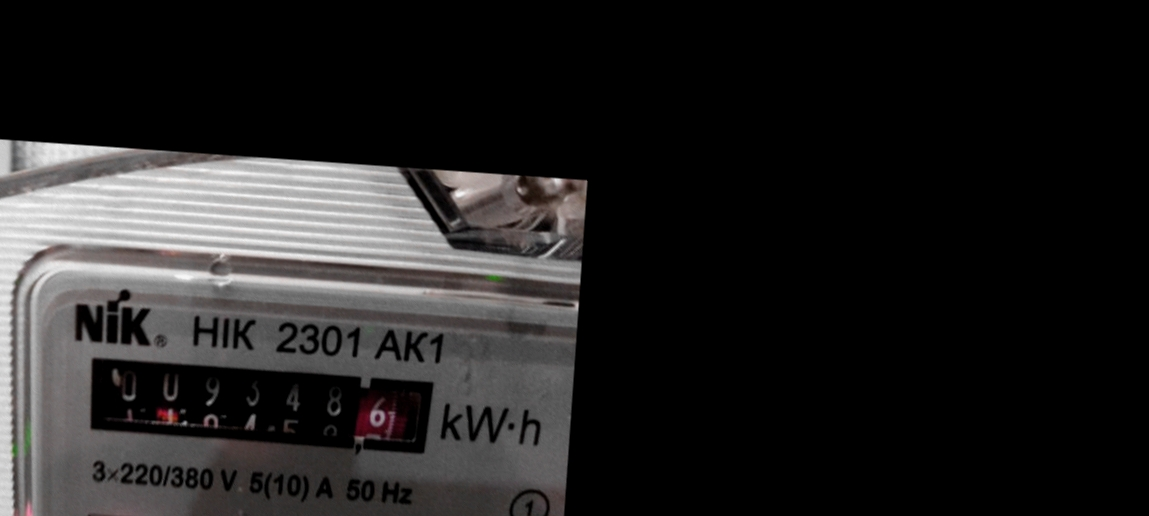0: (158, 369, 182, 406), (117, 368, 140, 404)
3: (240, 375, 264, 409)
4: (280, 378, 303, 417)
6: (366, 394, 390, 430)
8: (323, 383, 345, 419)
9: (201, 373, 221, 408)
screen: (62, 342, 453, 471)
